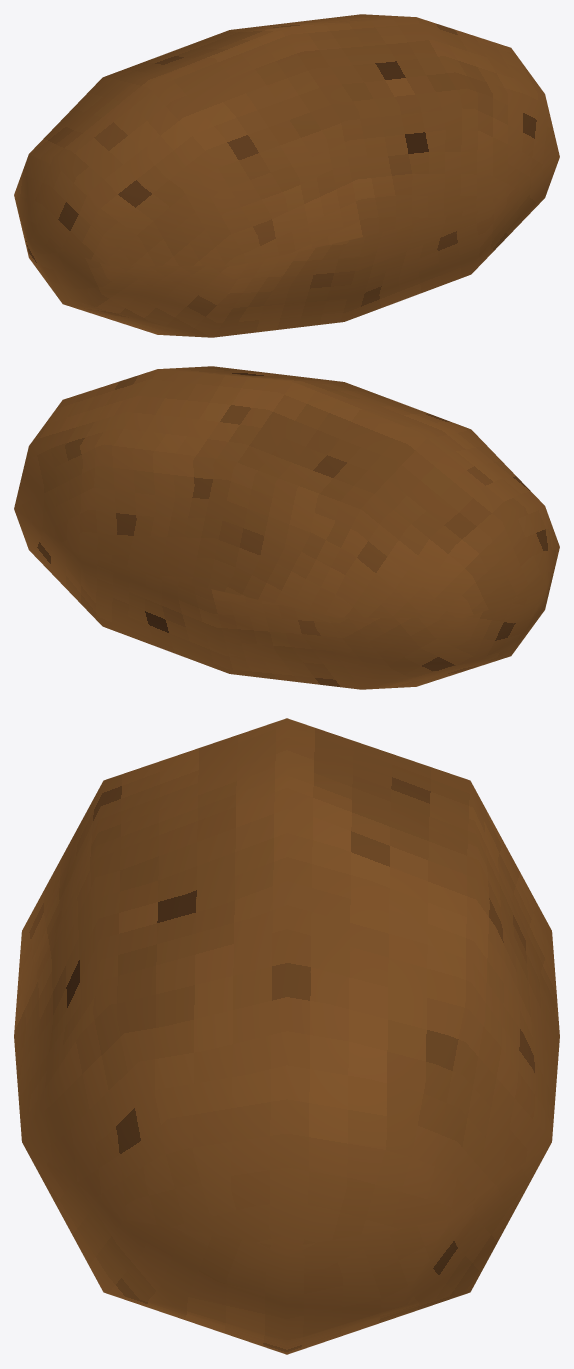
Rendered from Potato.glb.
3 renders of one model, top to bottom at view 1: azimuth 30°, elevation 25°; view 2: azimuth 150°, elevation 25°; view 3: azimuth 270°, elevation 25°, orthographic. The views are drawn at different scales.
Parts seen in each view (by area): view 1: Potato; view 2: Potato; view 3: Potato.
Part boxes in pixels (x1=…): Potato: x1=14, y1=14, x2=559, y2=337; Potato: x1=14, y1=366, x2=559, y2=689; Potato: x1=14, y1=718, x2=559, y2=1354.
Bounding box in the file's own units: 0.2396 × 0.1299 × 0.1309.
1 material, 1 textured.
